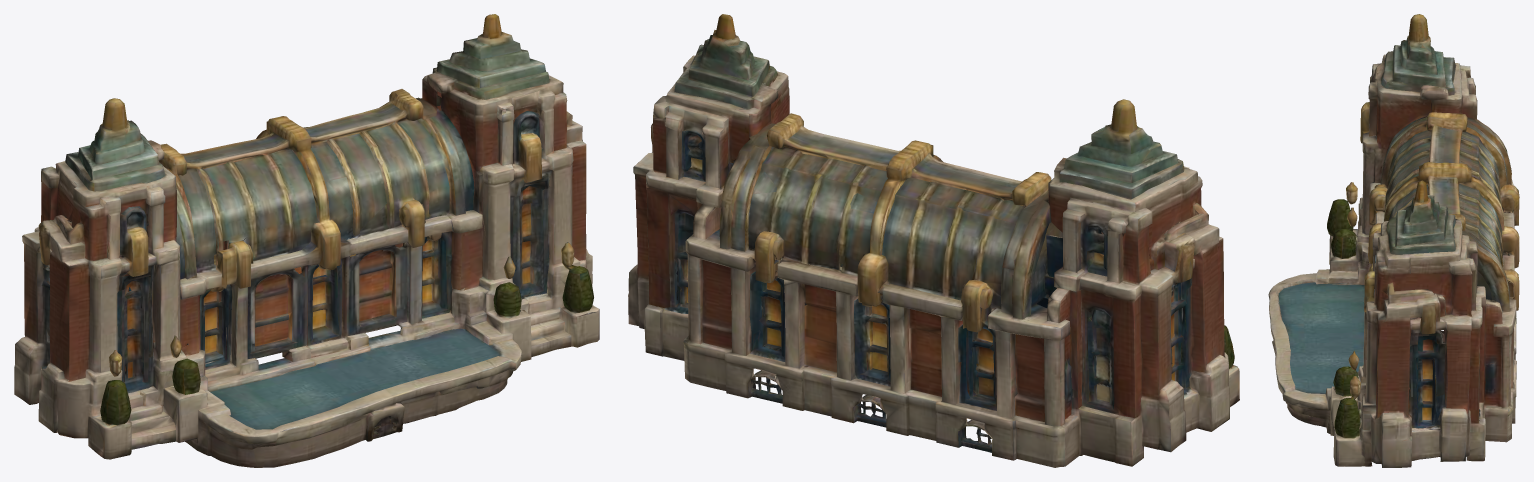
3 views of the same model, side by side, from view 1: azimuth 30°, elevation 25°; view 2: azimuth 150°, elevation 25°; view 3: azimuth 270°, elevation 25° (orthographic). The views are drawn at different scales.
Parts seen in each view (by area): view 1: expansion__onsen_2__native_mobile; view 2: expansion__onsen_2__native_mobile; view 3: expansion__onsen_2__native_mobile.
Boxes of the visible parts, bbox=[...] form: expansion__onsen_2__native_mobile: bbox=[14, 14, 599, 467]; expansion__onsen_2__native_mobile: bbox=[628, 14, 1239, 467]; expansion__onsen_2__native_mobile: bbox=[1268, 14, 1519, 467].
Size of the model in its own units: 1 by 0.5798 by 0.4707.
1 material, 1 textured.
